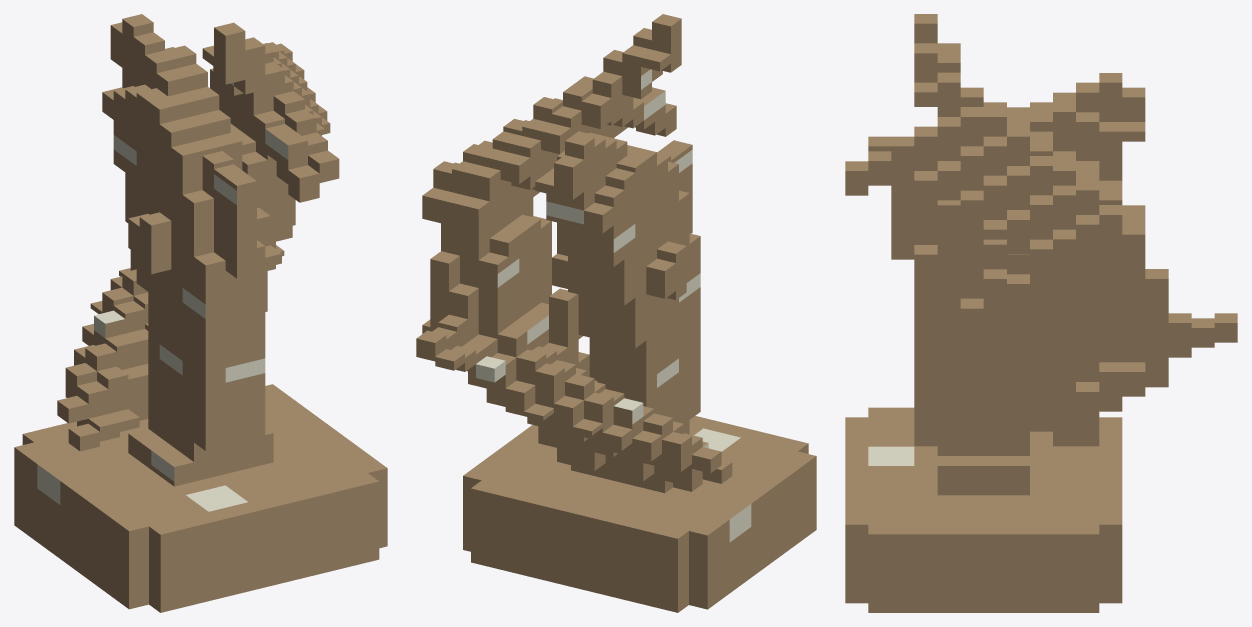
The model's file is statue_dirty.fbx.
3 renders of one model, left to right at view 1: azimuth 30°, elevation 25°; view 2: azimuth 150°, elevation 25°; view 3: azimuth 270°, elevation 25°, orthographic. The views are drawn at different scales.
Visible parts, largest first — view 1: Cube.096; view 2: Cube.096; view 3: Cube.096.
Part boxes in pixels (box(x1,y1,x2,y2)): Cube.096: box(14, 14, 387, 612); Cube.096: box(416, 14, 816, 612); Cube.096: box(845, 14, 1237, 612).
Bounding box in the file's own units: 137 × 248 × 166.
